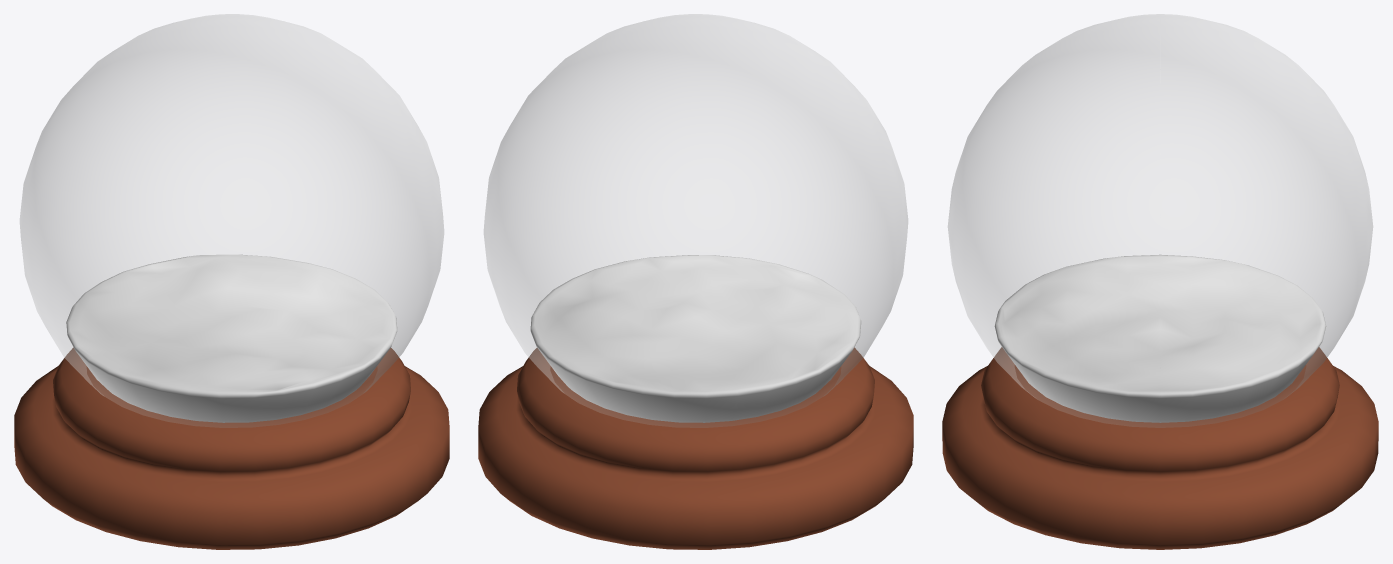
The model's file is snowglobe.glb.
3 views of the same model, side by side, from view 1: azimuth 30°, elevation 25°; view 2: azimuth 150°, elevation 25°; view 3: azimuth 270°, elevation 25° (orthographic).
Parts seen in each view (by area): view 1: Sphere.001, Cylinder, Cylinder.001; view 2: Sphere.001, Cylinder, Cylinder.001; view 3: Sphere.001, Cylinder, Cylinder.001.
Boxes of the visible parts, x1,y1,x2,y2 form: Sphere.001: (20,14,443,427); Cylinder: (14,347,449,549); Cylinder.001: (66,254,397,422); Sphere.001: (484,14,907,427); Cylinder: (478,347,913,549); Cylinder.001: (530,255,861,422); Sphere.001: (948,14,1372,427); Cylinder: (942,347,1378,549); Cylinder.001: (994,254,1326,422).
Bounding box in the file's own units: 10.01 × 11.02 × 10.01.
